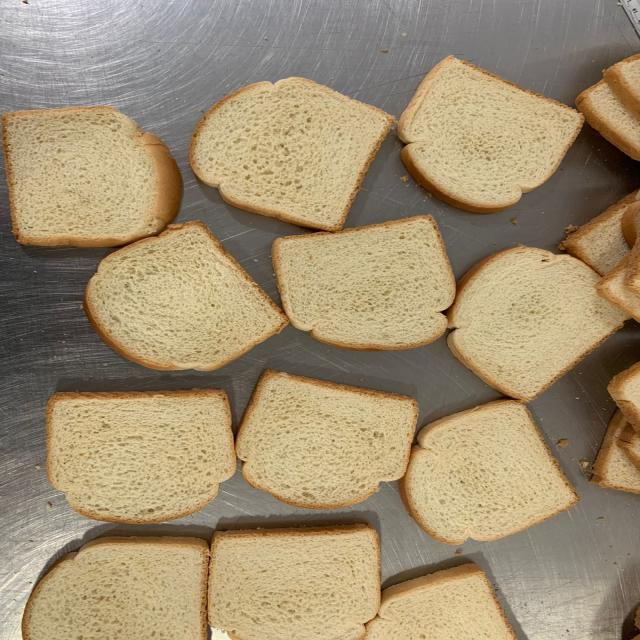pan: (187, 77, 394, 233), (82, 220, 290, 371), (444, 247, 632, 404), (397, 58, 584, 213), (398, 400, 581, 546), (234, 369, 419, 509), (0, 106, 183, 247), (46, 389, 236, 524), (273, 214, 456, 352), (206, 524, 381, 640)
